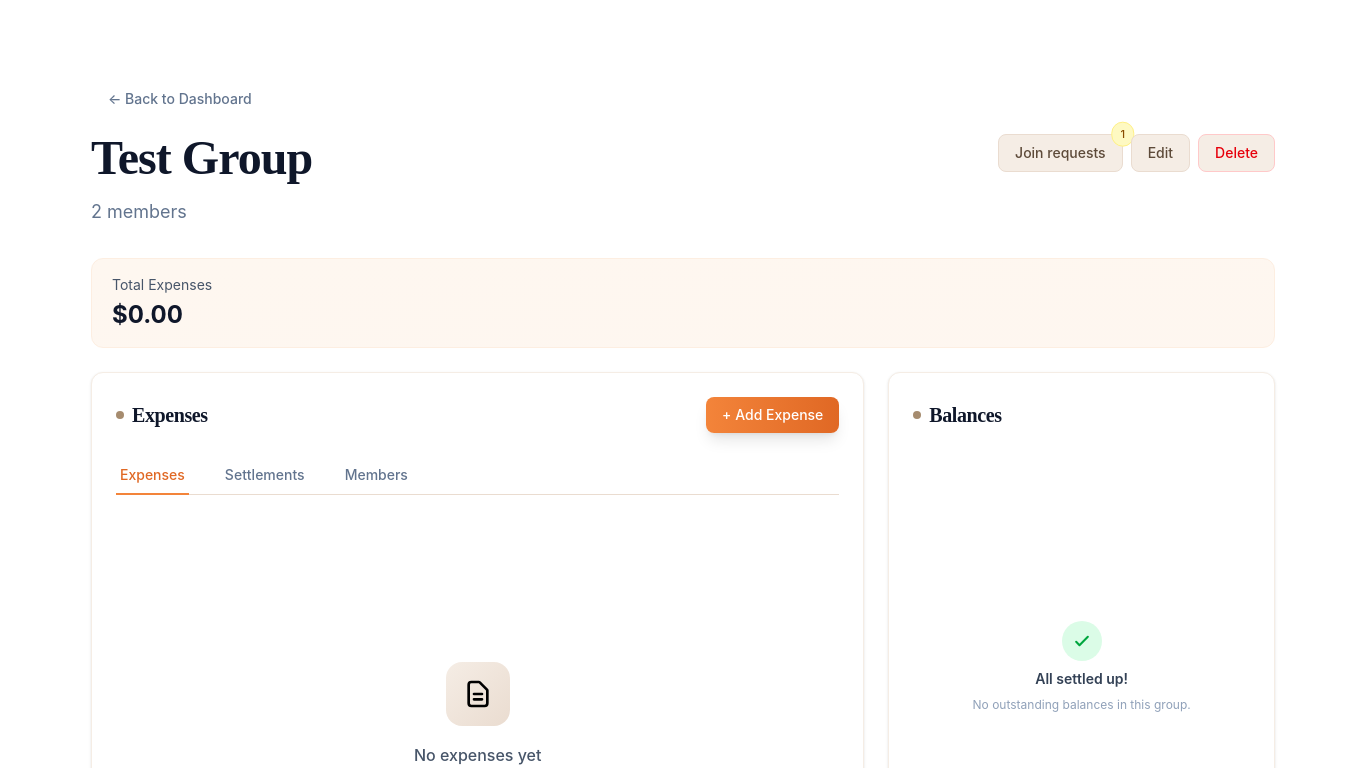
GroupDetailPage › Settlement History › renders settlement rows with member names
Click the tab "Settlements": [265, 476] box [221, 457, 309, 495]
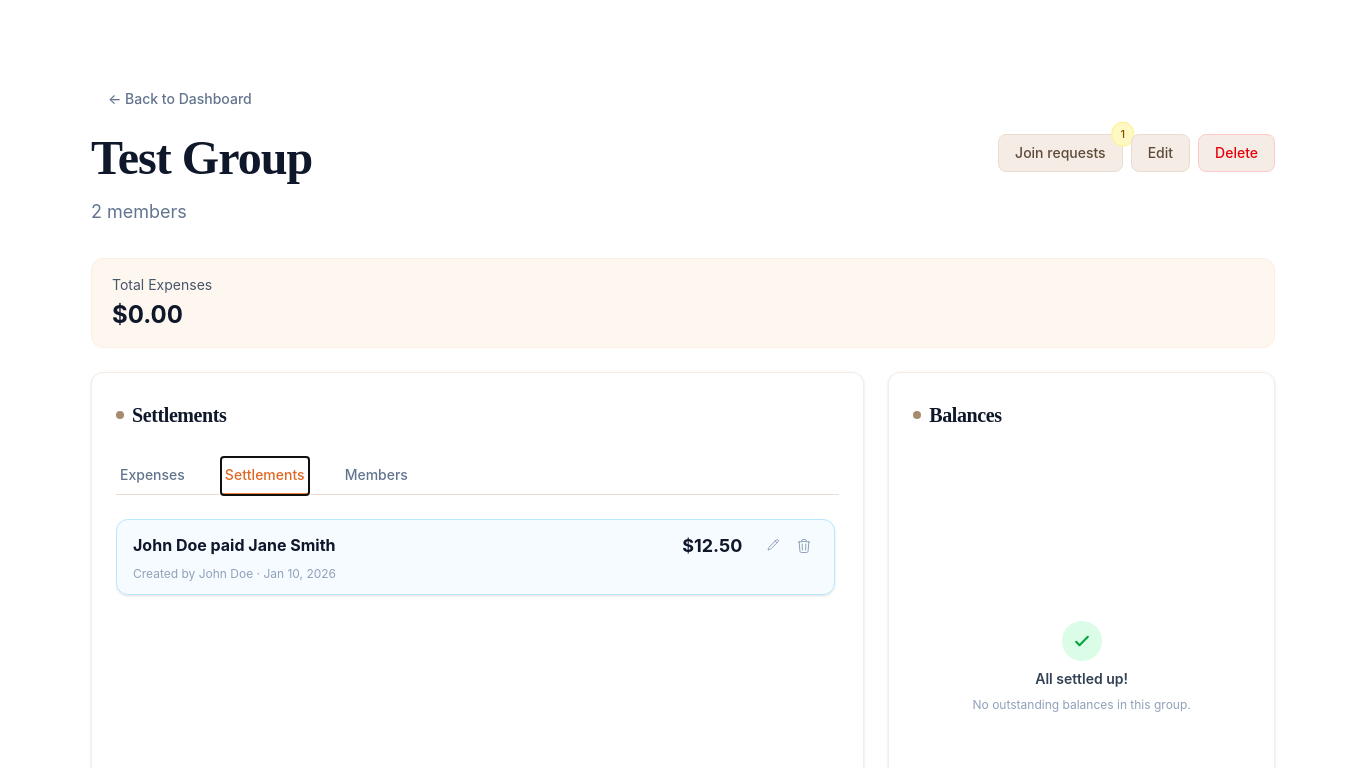
Check: the text "John Doe paid Jane Smith" is shown, box [133, 532, 336, 558]
